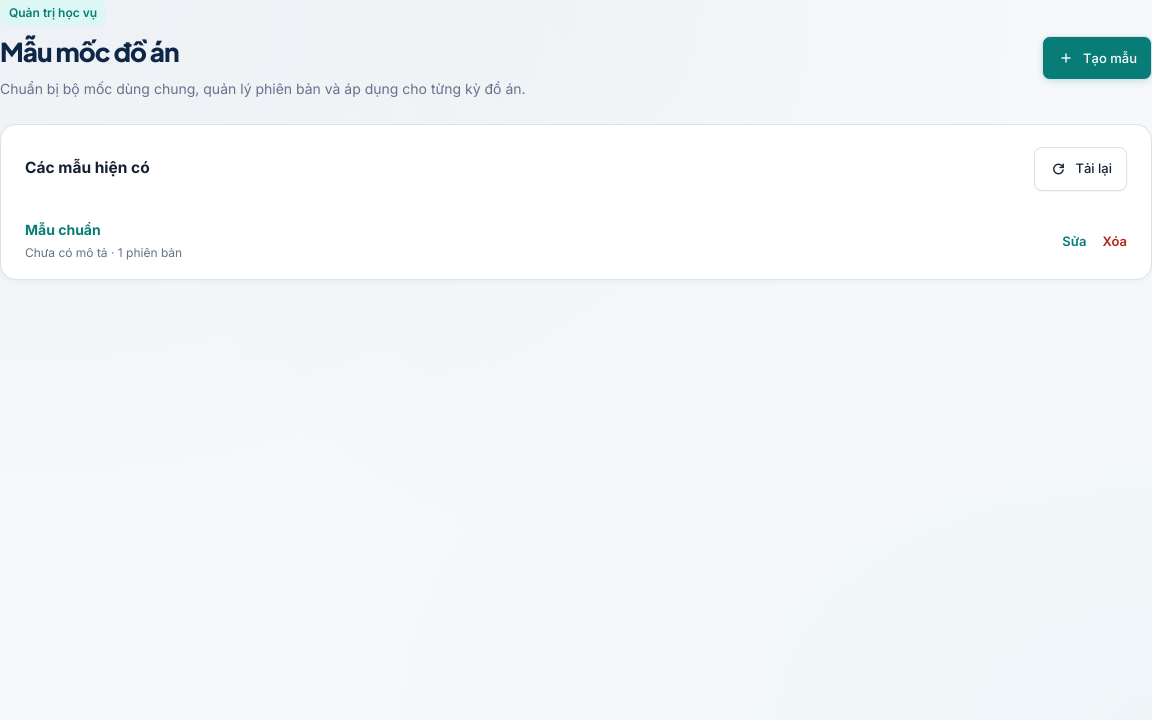
Scenario: keeps a published version immutable and offers period assignment
What coordinates should you click on to do the following:
click the button "Mẫu chuẩn Chưa có mô tả · 1 phiên bản"
I would click on:
 (104, 241)
Its box is [25,219,182,263].
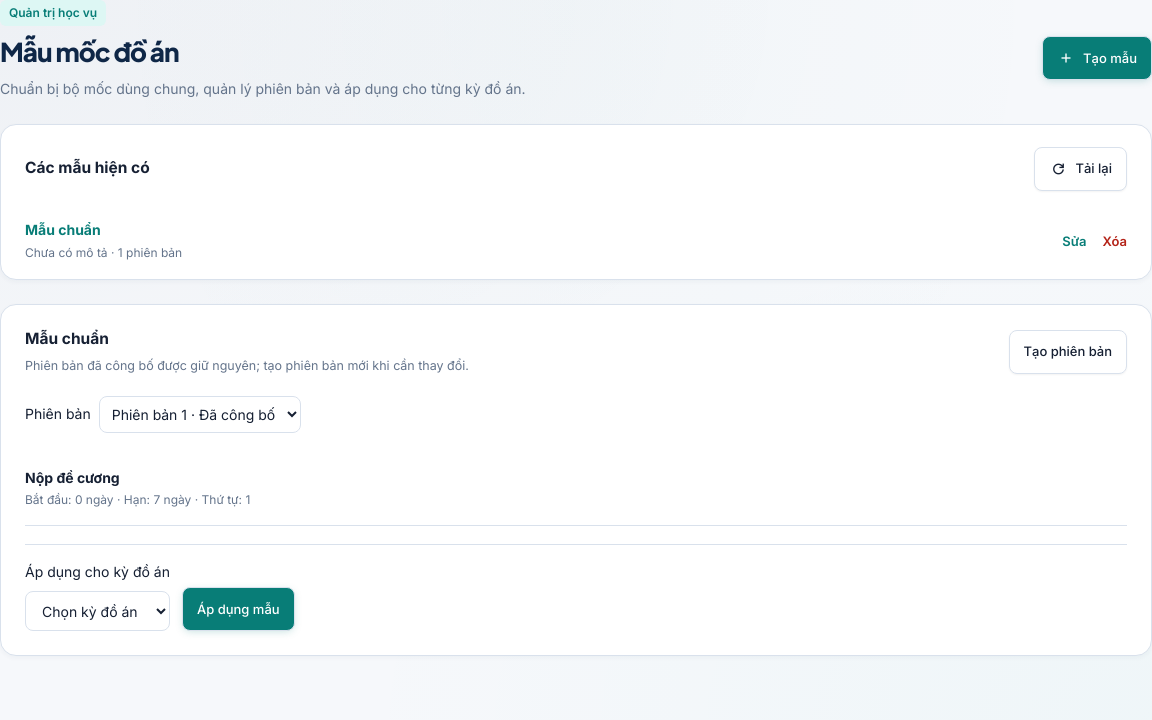
expect the button "Áp dụng mẫu" is shown: met, box [182,587,295,631]
